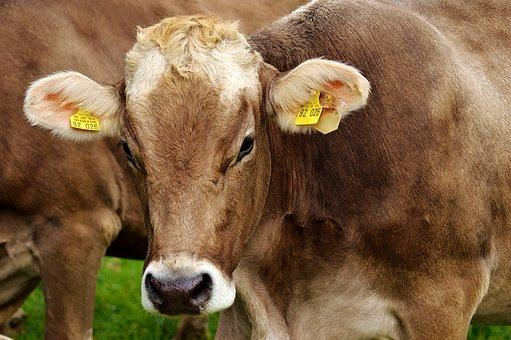muzzles: (133, 255, 239, 322)
